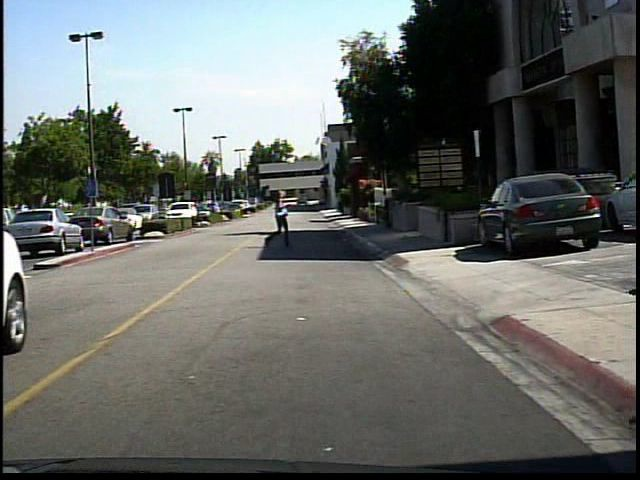person: (260, 185, 293, 250)
